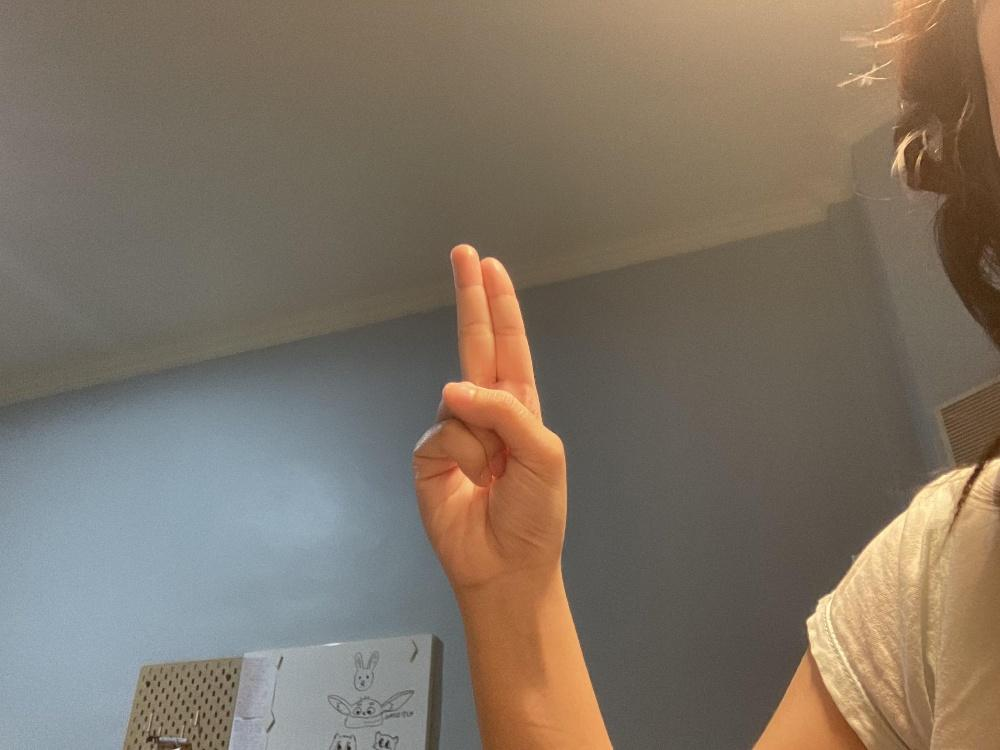u: (410, 242, 567, 590)
